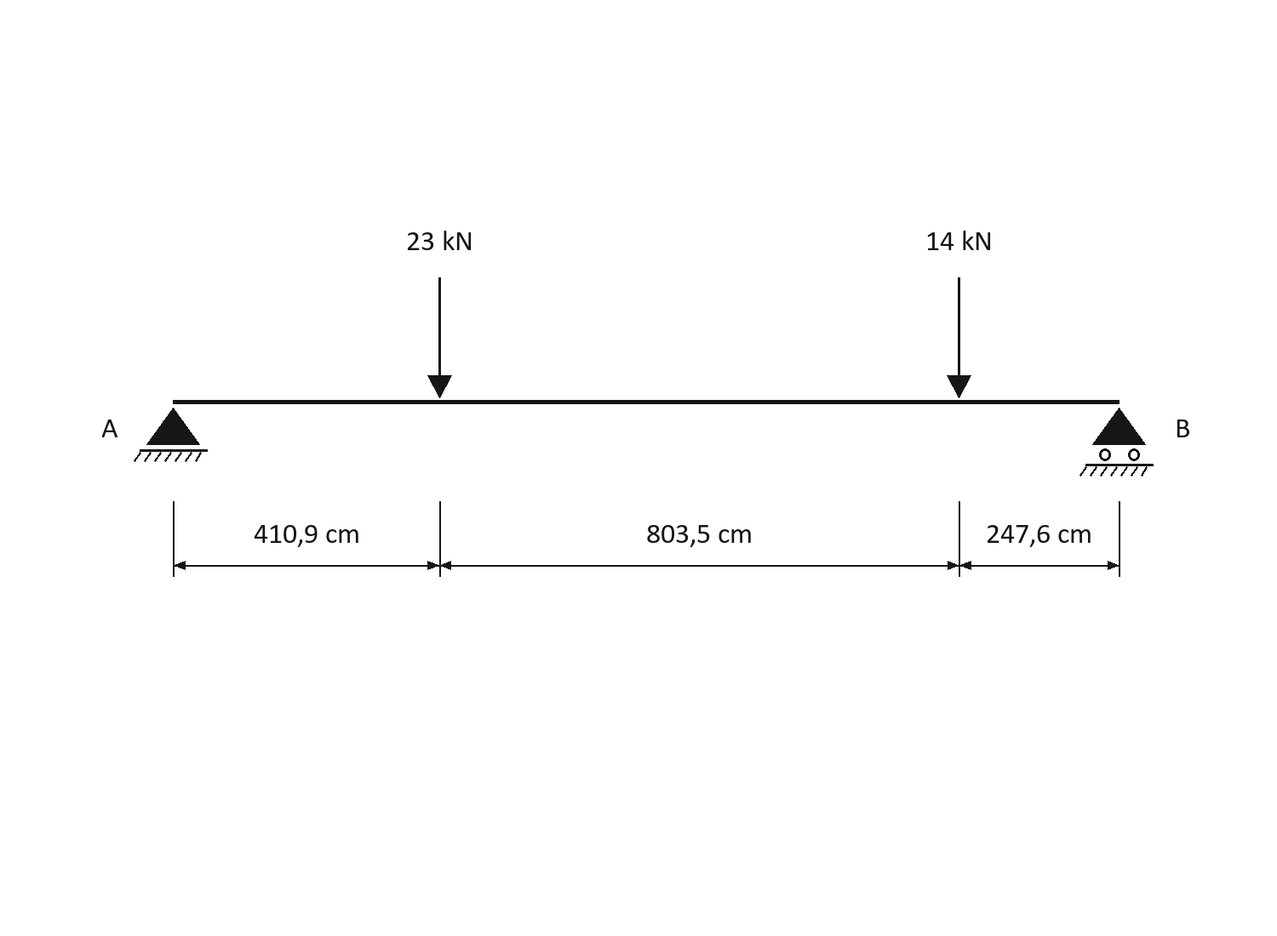pin_support: (134, 408, 208, 462)
point_load: (427, 277, 452, 398), (947, 277, 971, 398)
roller_support: (1079, 408, 1154, 477)
